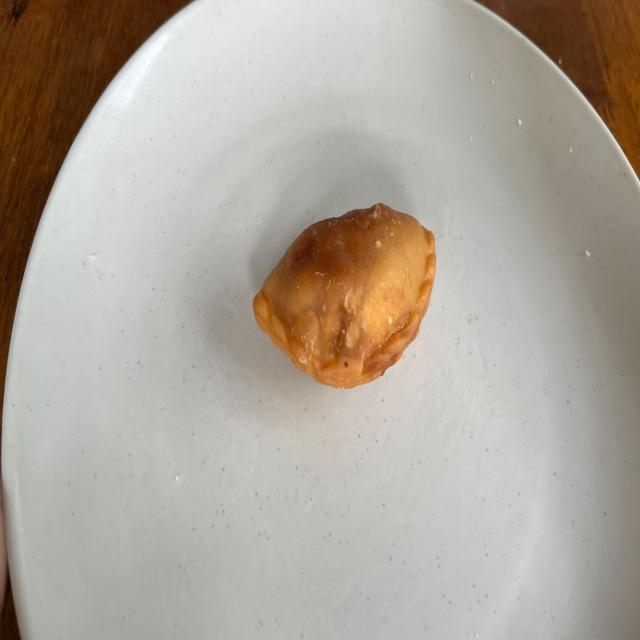karipap: (252, 204, 436, 389)
